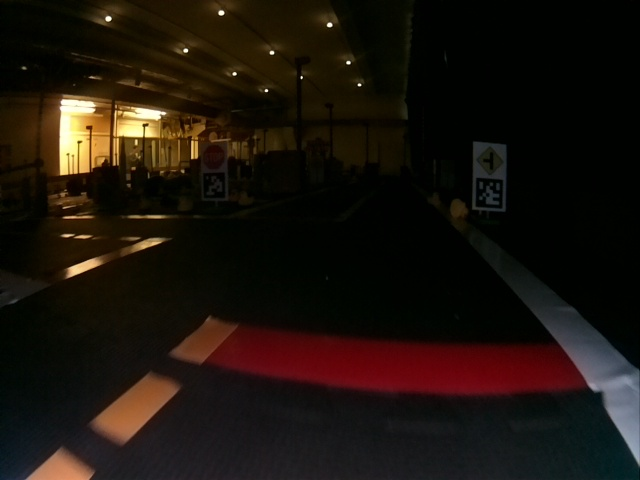Duckie: (450, 198, 464, 216), (179, 197, 193, 211), (239, 192, 253, 204)
Intersection sign: (475, 146, 504, 175)
QR code: (475, 177, 503, 209), (203, 172, 227, 199)
Stop sign: (203, 146, 225, 170)
